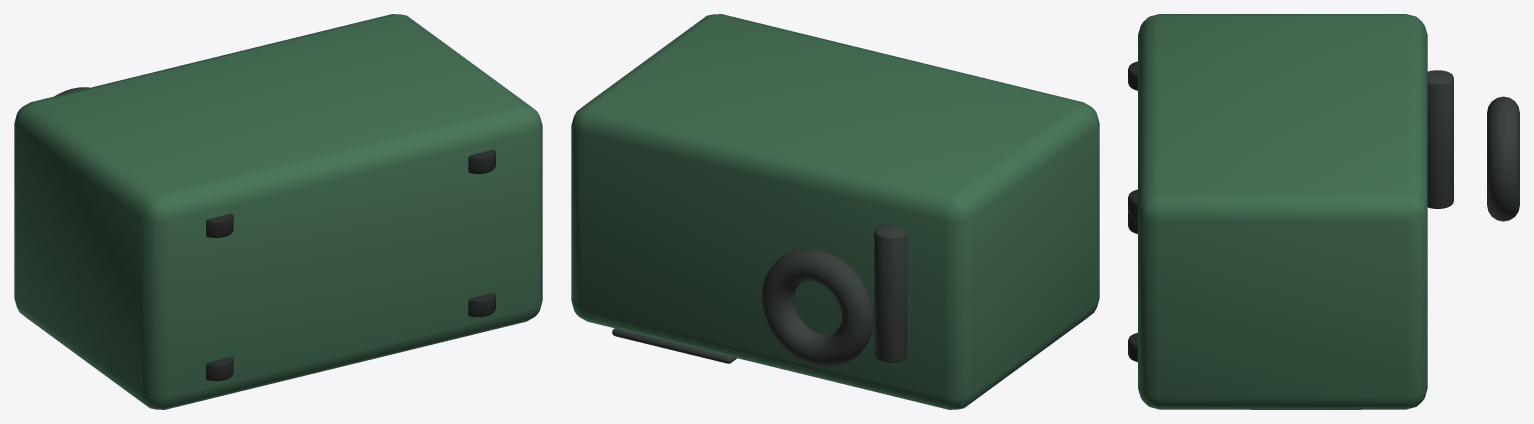
Rendered from generator.glb.
The picture shows the model from 3 angles, left to right: view 1: azimuth 30°, elevation 25°; view 2: azimuth 150°, elevation 25°; view 3: azimuth 270°, elevation 25°; orthographic projection.
Visible parts, largest first — view 1: Generator_Frame, Foot2_-0.92, Foot_0.92, Foot2_0.92, Foot_-0.92; view 2: Generator_Frame, ExhaustBend, Generator_Exhaust, Generator_Panel; view 3: Generator_Frame, ExhaustBend, Generator_Exhaust.
Part boxes in pixels (bbox=[...]): Generator_Frame: bbox=[14, 14, 542, 409]; Foot2_-0.92: bbox=[206, 213, 233, 237]; Foot_0.92: bbox=[468, 293, 495, 316]; Foot2_0.92: bbox=[468, 149, 495, 173]; Foot_-0.92: bbox=[206, 357, 233, 380]; Generator_Frame: bbox=[571, 14, 1099, 409]; ExhaustBend: bbox=[761, 248, 873, 366]; Generator_Exhaust: bbox=[874, 224, 906, 362]; Generator_Panel: bbox=[612, 328, 736, 363]; Generator_Frame: bbox=[1138, 14, 1427, 409]; ExhaustBend: bbox=[1487, 96, 1519, 221]; Generator_Exhaust: bbox=[1427, 70, 1453, 208].
Size of the model in its own units: 2.8 by 1.57 by 2.38.
